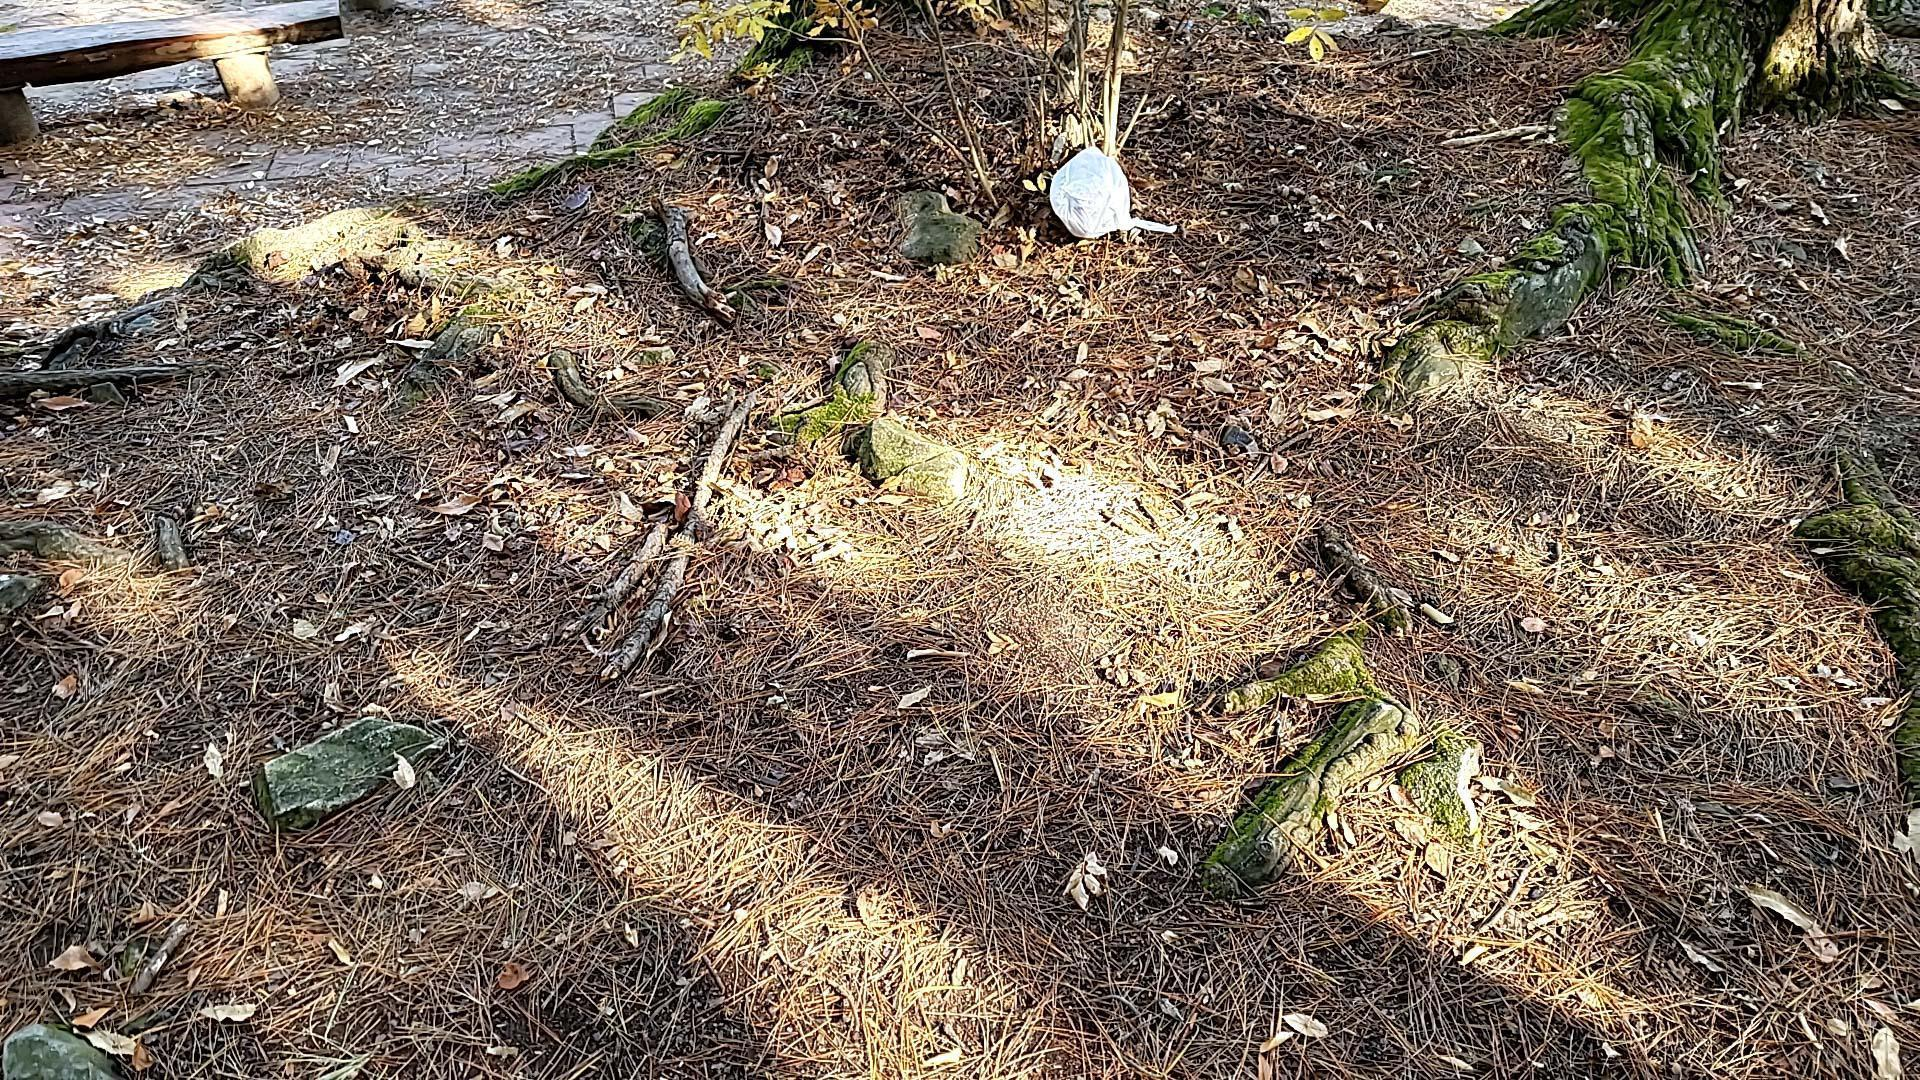white_bag: (1034, 144, 1182, 258)
